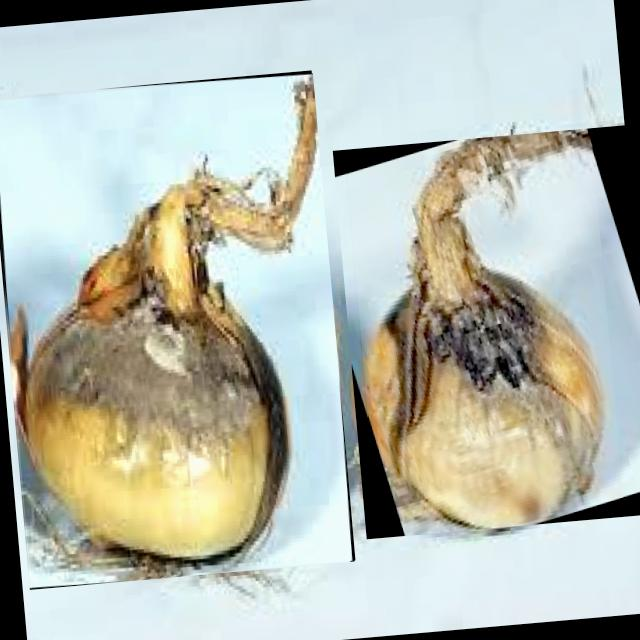rotten: (9, 73, 315, 578), (365, 128, 603, 526)
